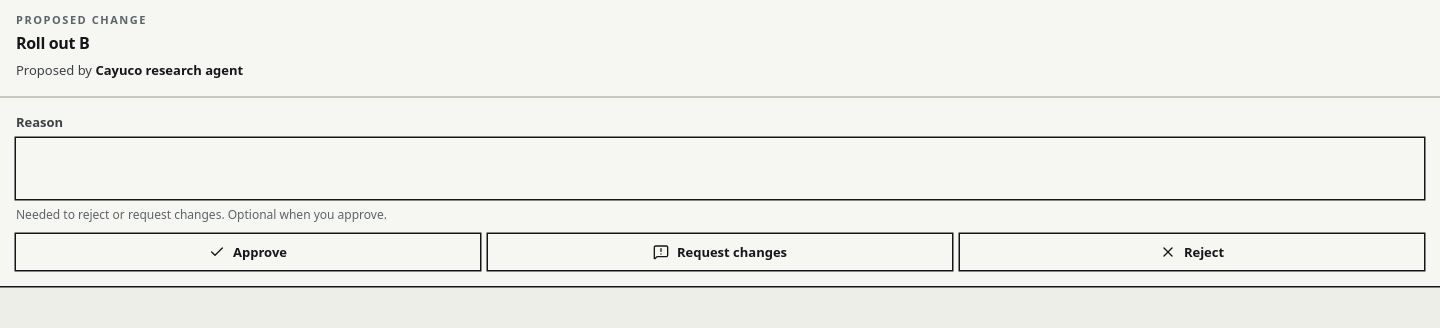
Test: ChangeReview › Request changes without a reason states the error, focuses the field and does not decide
Click the button "Request changes".
click(720, 252)  # box [488,234,952,270]
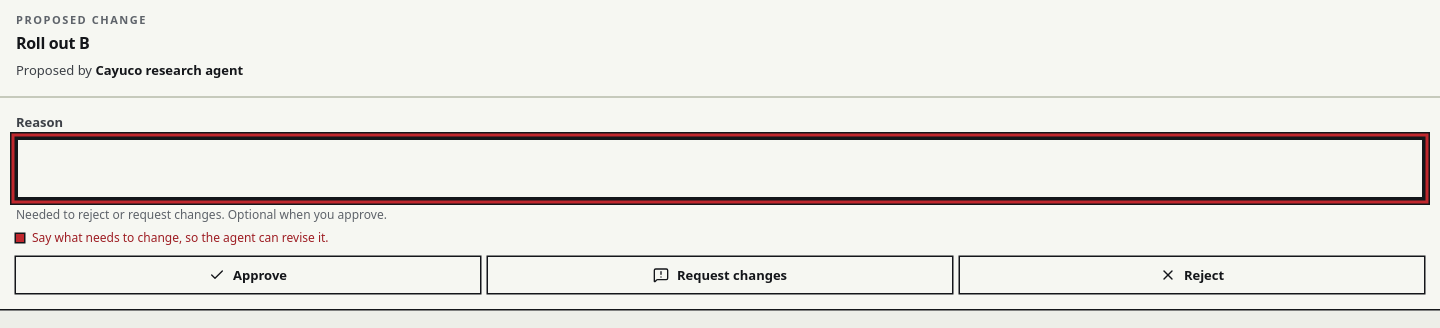
Now the message shows "Say what needs to change", box [32,229,329,246]
